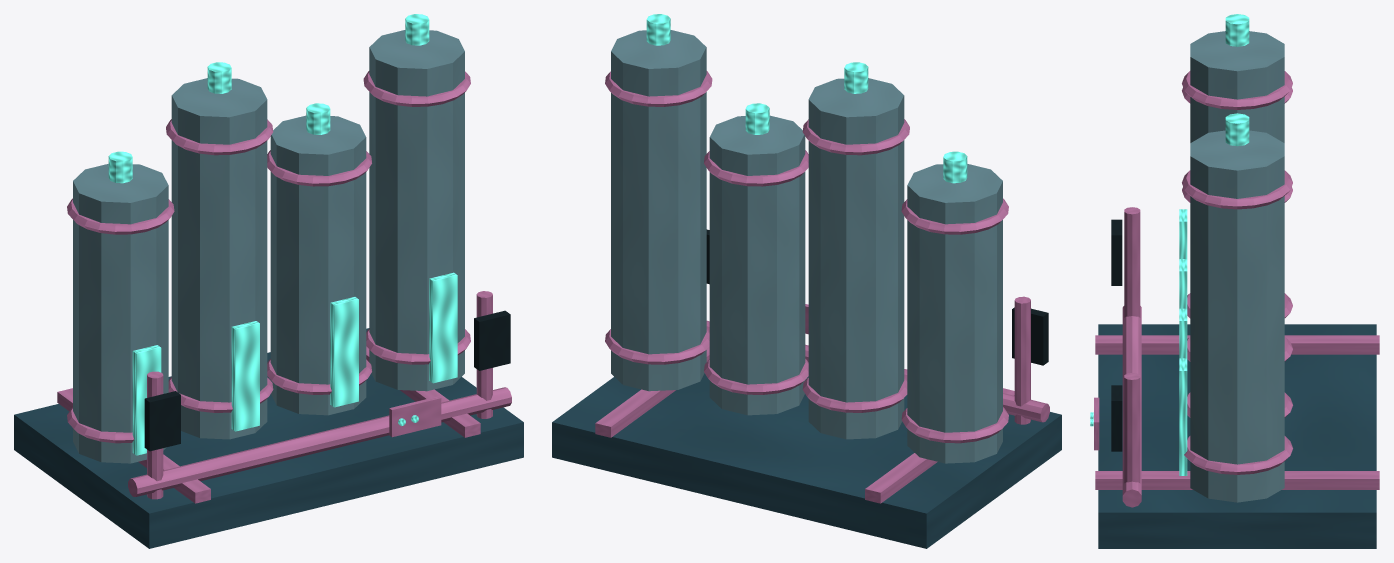
The model's file is atlas100-s062-a01.glb.
The picture shows the model from 3 angles, left to right: view 1: azimuth 30°, elevation 25°; view 2: azimuth 150°, elevation 25°; view 3: azimuth 270°, elevation 25°; orthographic projection. The views are drawn at different scales.
Visible parts, largest first — view 1: atlas100-s062-a01:part-000, atlas100-s062-a01:part-018, atlas100-s062-a01:part-008, atlas100-s062-a01:part-013, atlas100-s062-a01:part-003, atlas100-s062-a01:part-027, atlas100-s062-a01:part-012, atlas100-s062-a01:part-017, atlas100-s062-a01:part-022, atlas100-s062-a01:part-024, atlas100-s062-a01:part-026, atlas100-s062-a01:part-007 (+17 smaller); view 2: atlas100-s062-a01:part-000, atlas100-s062-a01:part-008, atlas100-s062-a01:part-018, atlas100-s062-a01:part-013, atlas100-s062-a01:part-003, atlas100-s062-a01:part-023, atlas100-s062-a01:part-002, atlas100-s062-a01:part-001, atlas100-s062-a01:part-004, atlas100-s062-a01:part-010, atlas100-s062-a01:part-005, atlas100-s062-a01:part-020 (+10 smaller); view 3: atlas100-s062-a01:part-000, atlas100-s062-a01:part-018, atlas100-s062-a01:part-008, atlas100-s062-a01:part-002, atlas100-s062-a01:part-001, atlas100-s062-a01:part-027, atlas100-s062-a01:part-023, atlas100-s062-a01:part-025, atlas100-s062-a01:part-020, atlas100-s062-a01:part-010, atlas100-s062-a01:part-019, atlas100-s062-a01:part-022 (+7 smaller).
Part boxes in pixels (bbox=[...]): atlas100-s062-a01:part-000: bbox=[14, 328, 523, 548]; atlas100-s062-a01:part-018: bbox=[369, 30, 464, 391]; atlas100-s062-a01:part-008: bbox=[171, 78, 267, 439]; atlas100-s062-a01:part-013: bbox=[270, 115, 366, 415]; atlas100-s062-a01:part-003: bbox=[73, 164, 168, 463]; atlas100-s062-a01:part-027: bbox=[128, 387, 511, 496]; atlas100-s062-a01:part-012: bbox=[231, 321, 259, 431]; atlas100-s062-a01:part-017: bbox=[330, 297, 358, 407]; atlas100-s062-a01:part-022: bbox=[429, 272, 457, 383]; atlas100-s062-a01:part-024: bbox=[144, 391, 180, 451]; atlas100-s062-a01:part-026: bbox=[474, 310, 510, 370]; atlas100-s062-a01:part-007: bbox=[132, 345, 161, 455]; atlas100-s062-a01:part-000: bbox=[552, 373, 1061, 548]; atlas100-s062-a01:part-008: bbox=[808, 78, 904, 439]; atlas100-s062-a01:part-018: bbox=[611, 30, 706, 391]; atlas100-s062-a01:part-013: bbox=[709, 115, 805, 415]; atlas100-s062-a01:part-003: bbox=[907, 164, 1002, 463]; atlas100-s062-a01:part-023: bbox=[1014, 296, 1030, 424]; atlas100-s062-a01:part-002: bbox=[595, 346, 709, 437]; atlas100-s062-a01:part-001: bbox=[865, 388, 1014, 503]; atlas100-s062-a01:part-004: bbox=[901, 407, 1008, 443]; atlas100-s062-a01:part-010: bbox=[802, 119, 909, 155]; atlas100-s062-a01:part-005: bbox=[901, 198, 1008, 234]; atlas100-s062-a01:part-020: bbox=[605, 71, 712, 106]; atlas100-s062-a01:part-000: bbox=[1098, 324, 1376, 548]; atlas100-s062-a01:part-018: bbox=[1190, 130, 1284, 502]; atlas100-s062-a01:part-008: bbox=[1190, 31, 1284, 142]; atlas100-s062-a01:part-002: bbox=[1095, 471, 1379, 489]; atlas100-s062-a01:part-001: bbox=[1095, 335, 1379, 354]; atlas100-s062-a01:part-027: bbox=[1122, 306, 1141, 507]; atlas100-s062-a01:part-023: bbox=[1124, 207, 1140, 317]; atlas100-s062-a01:part-025: bbox=[1124, 373, 1140, 483]; atlas100-s062-a01:part-020: bbox=[1182, 170, 1292, 209]; atlas100-s062-a01:part-010: bbox=[1182, 71, 1292, 109]; atlas100-s062-a01:part-019: bbox=[1184, 436, 1292, 474]; atlas100-s062-a01:part-022: bbox=[1179, 358, 1187, 475].
Bounding box in the file's own units: 3 × 2.93 × 1.87.
5 materials, 5 textured.
